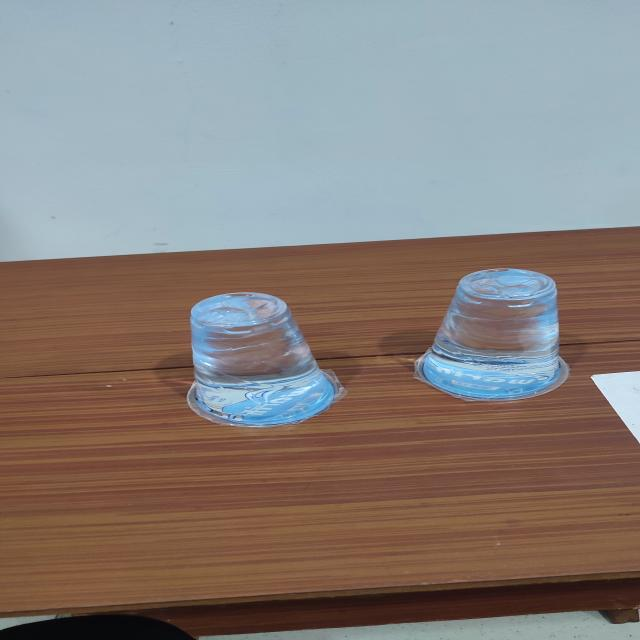air gelas: (169, 290, 361, 424), (409, 262, 573, 404)
